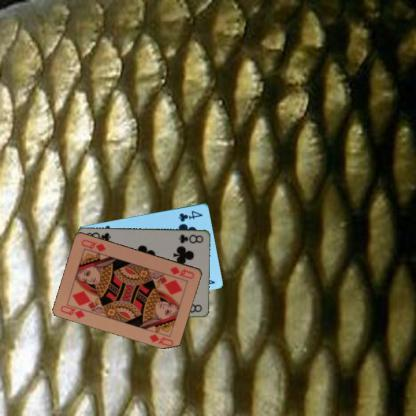4c: (176, 208, 204, 222)
8c: (176, 232, 205, 244)
Qd: (58, 301, 90, 321), (168, 263, 195, 280)
